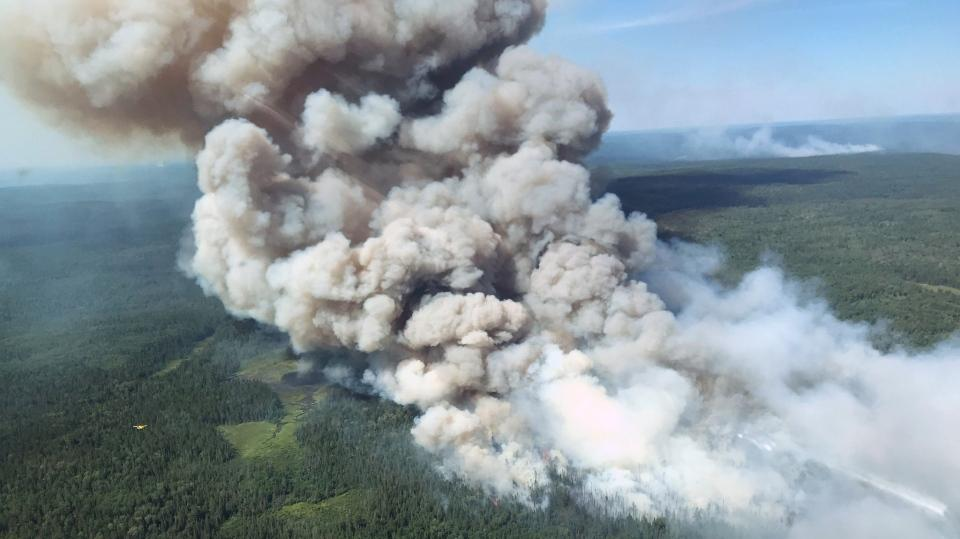smoke: (183, 0, 682, 445)
